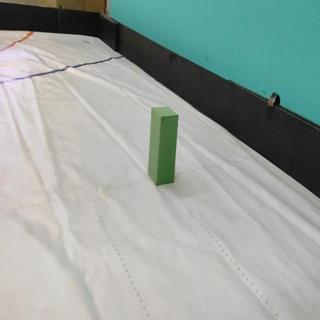greenbox: (148, 105, 179, 186)
